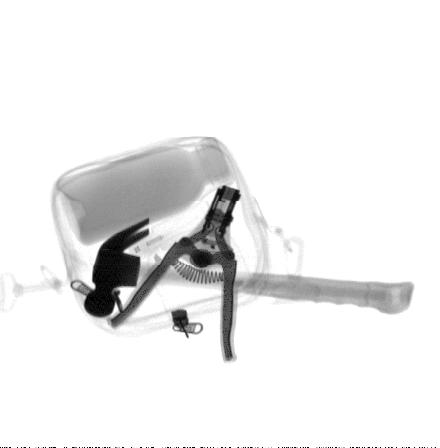Hammer: (84, 217, 415, 317)
Pliers: (108, 185, 243, 362)
